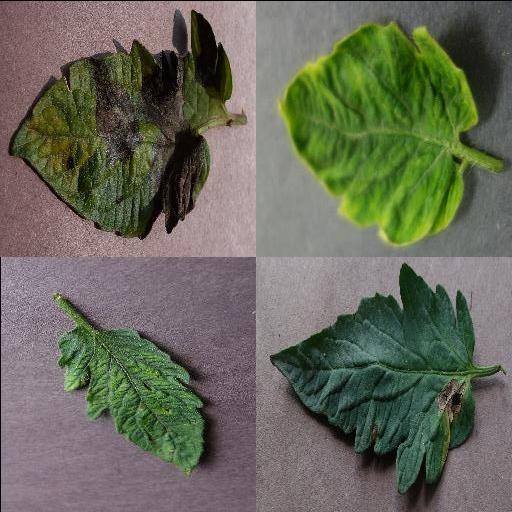Early Blight: (270, 262, 478, 494)
Late Blight: (9, 7, 233, 239)
Mosaic Virus: (56, 325, 206, 479)
Yellow Leaf Curl Virus: (273, 20, 477, 244)
